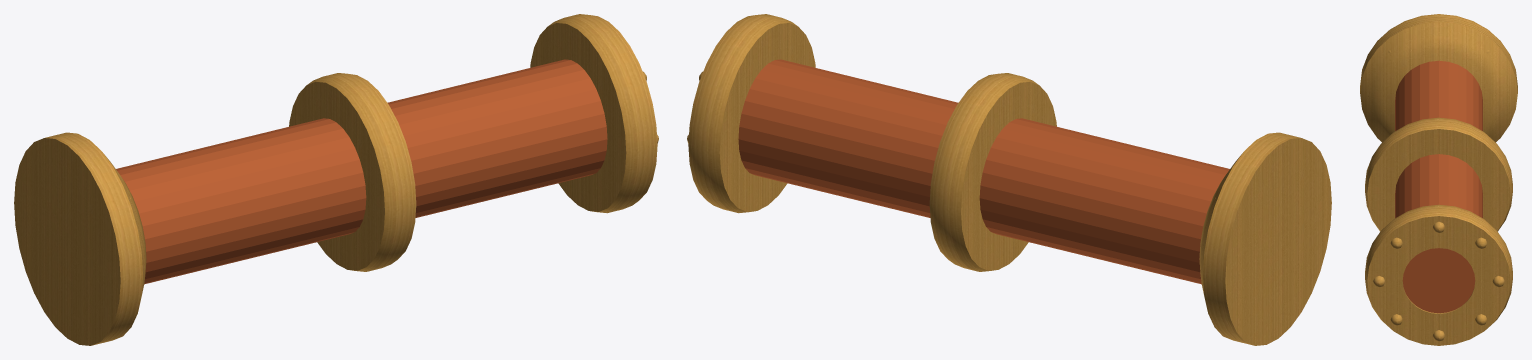
The model's file is act2_pipe_R.glb.
3 views of the same model, side by side, from view 1: azimuth 30°, elevation 25°; view 2: azimuth 150°, elevation 25°; view 3: azimuth 270°, elevation 25° (orthographic). The views are drawn at different scales.
Parts seen in each view (by area): view 1: ANIM_Act2_PipeR_Mesh; view 2: ANIM_Act2_PipeR_Mesh; view 3: ANIM_Act2_PipeR_Mesh.
Part boxes in pixels (<box>): ANIM_Act2_PipeR_Mesh: <box>14,14,658,345</box>; ANIM_Act2_PipeR_Mesh: <box>687,14,1331,345</box>; ANIM_Act2_PipeR_Mesh: <box>1360,14,1517,345</box>.
Bounding box in the file's own units: 0.983 × 0.33 × 0.33.
3 materials, 2 textured.
